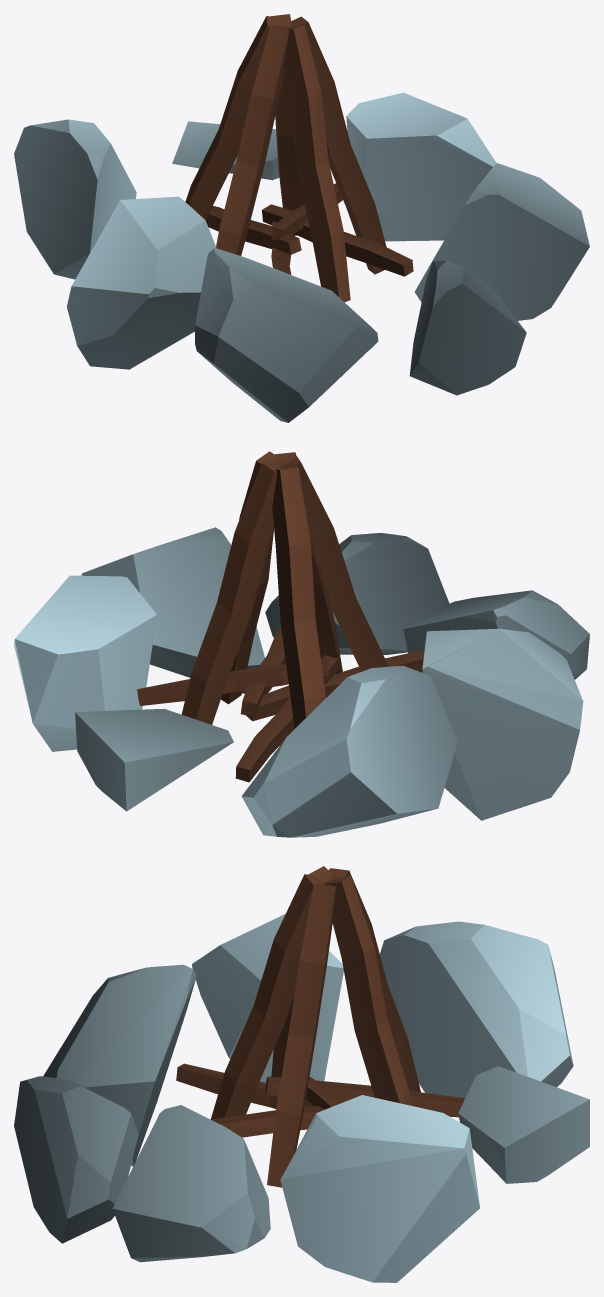
Rendered from fireplace.fbx.
3 renders of one model, top to bottom at view 1: azimuth 30°, elevation 25°; view 2: azimuth 150°, elevation 25°; view 3: azimuth 270°, elevation 25°, orthographic. The views are drawn at different scales.
Visible parts, largest first — view 1: Fireplace; view 2: Fireplace; view 3: Fireplace.
Boxes of the visible parts, left/top/right/bottom form: Fireplace: left=14, top=14, right=589, bottom=422; Fireplace: left=14, top=451, right=589, bottom=837; Fireplace: left=14, top=866, right=589, bottom=1282.
Bounding box in the file's own units: 75.97 × 46.94 × 71.59.
